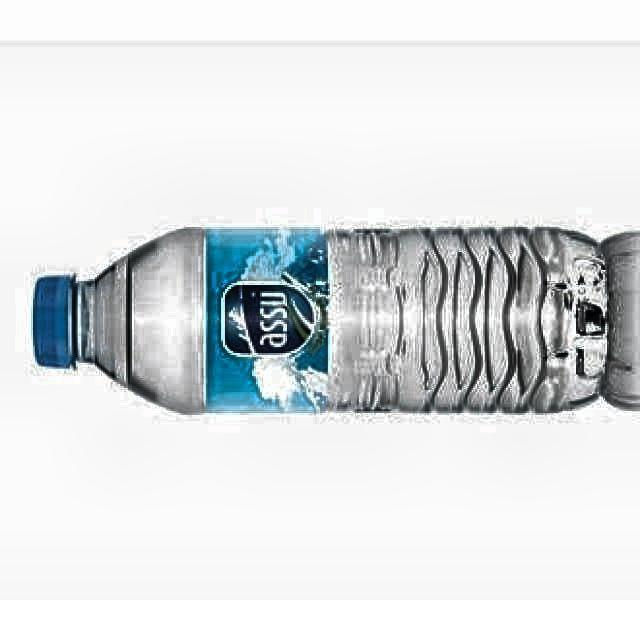plastic: (34, 228, 605, 412)
